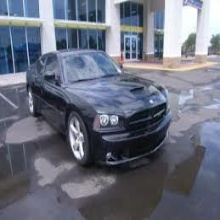no damage: (26, 47, 172, 170)
